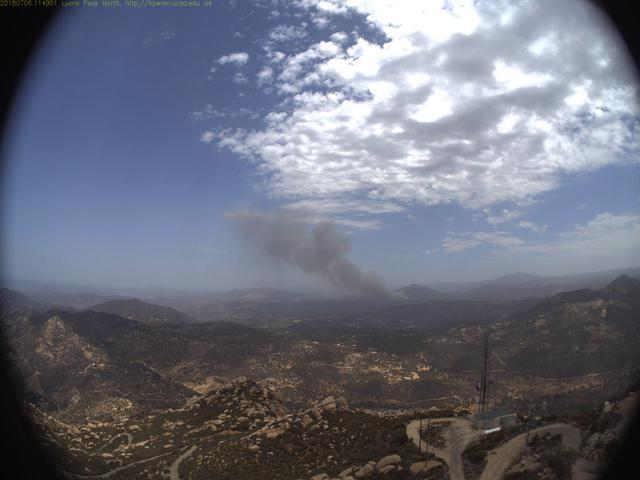smoke: (222, 201, 416, 319)
